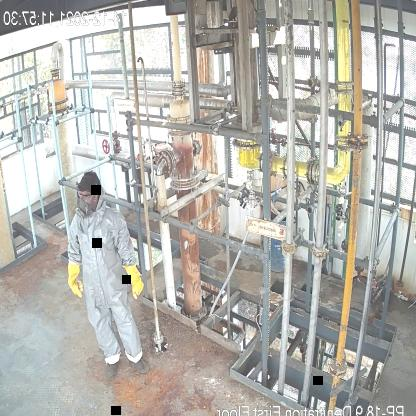goggles: (78, 190, 96, 200)
mask: (76, 200, 93, 222)
